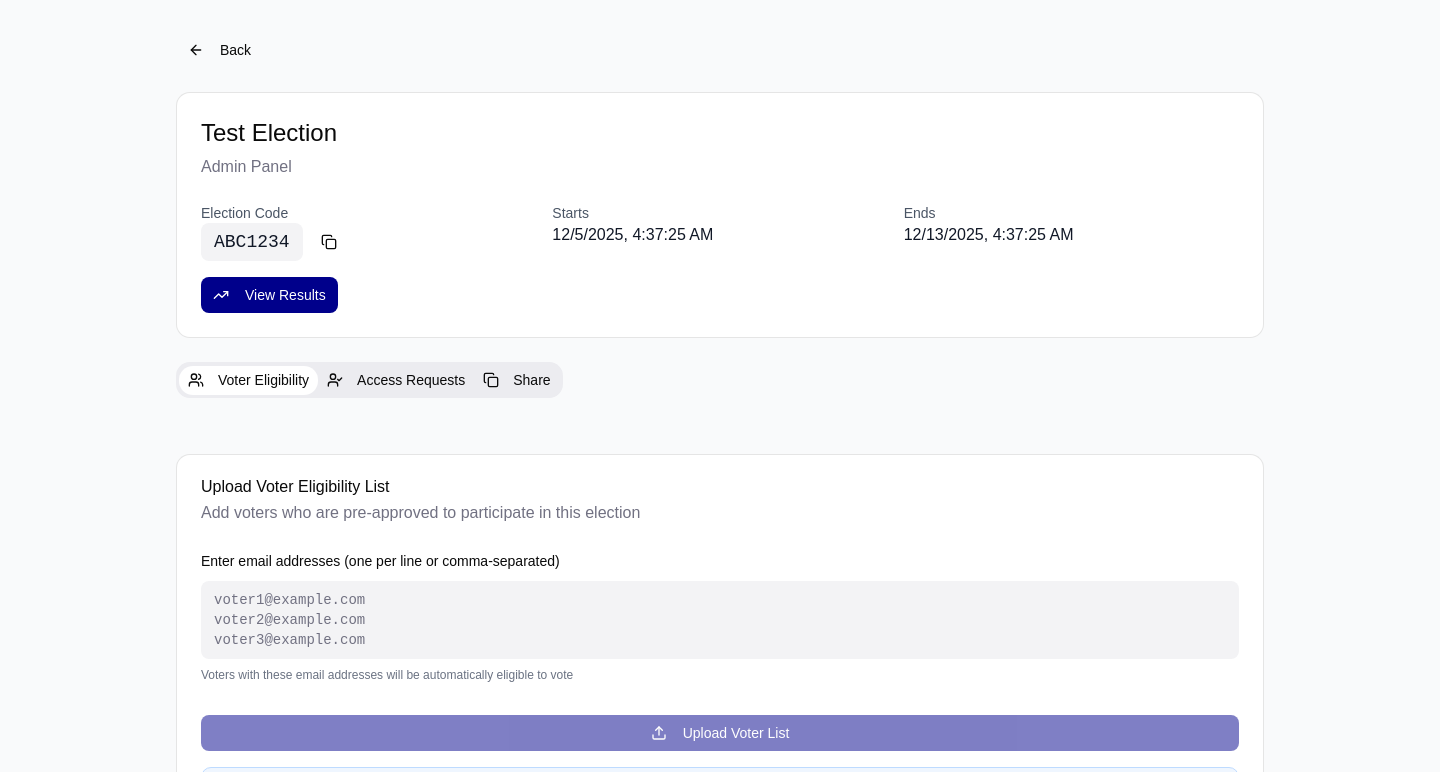
Test: AdminPanel - handleUploadVoters › API error handling › should catch and display API errors
The width and height of the screenshot is (1440, 772).
Expected: the heading "Test Election" is shown, [201,119,337,146]
Type "valid@example.com" into the text box with placeholder "voter1@example.com voter2@example.com voter3@example.com" at (720, 620), box [201,581,1239,659]
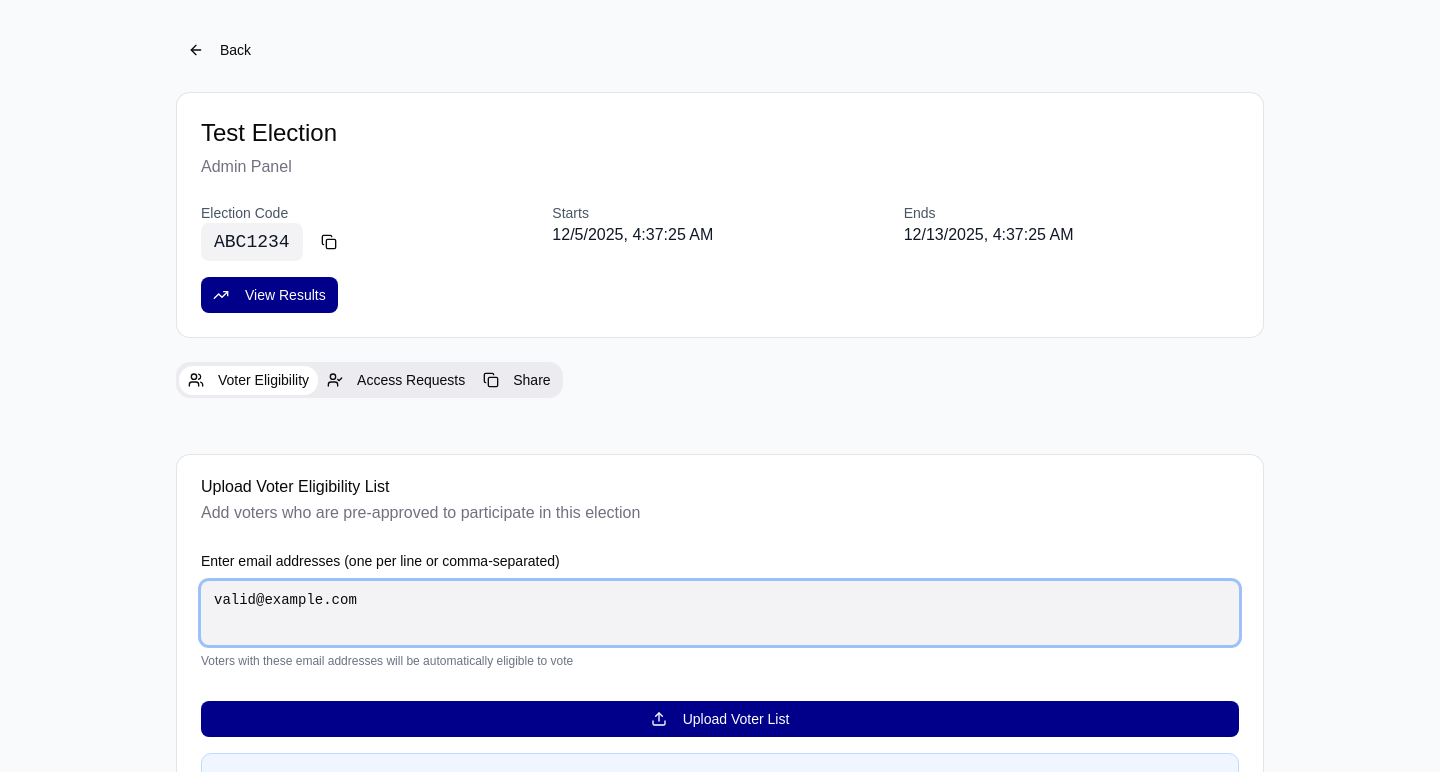
Click the button "Upload Voter List" at (720, 719), box [201,701,1239,737]
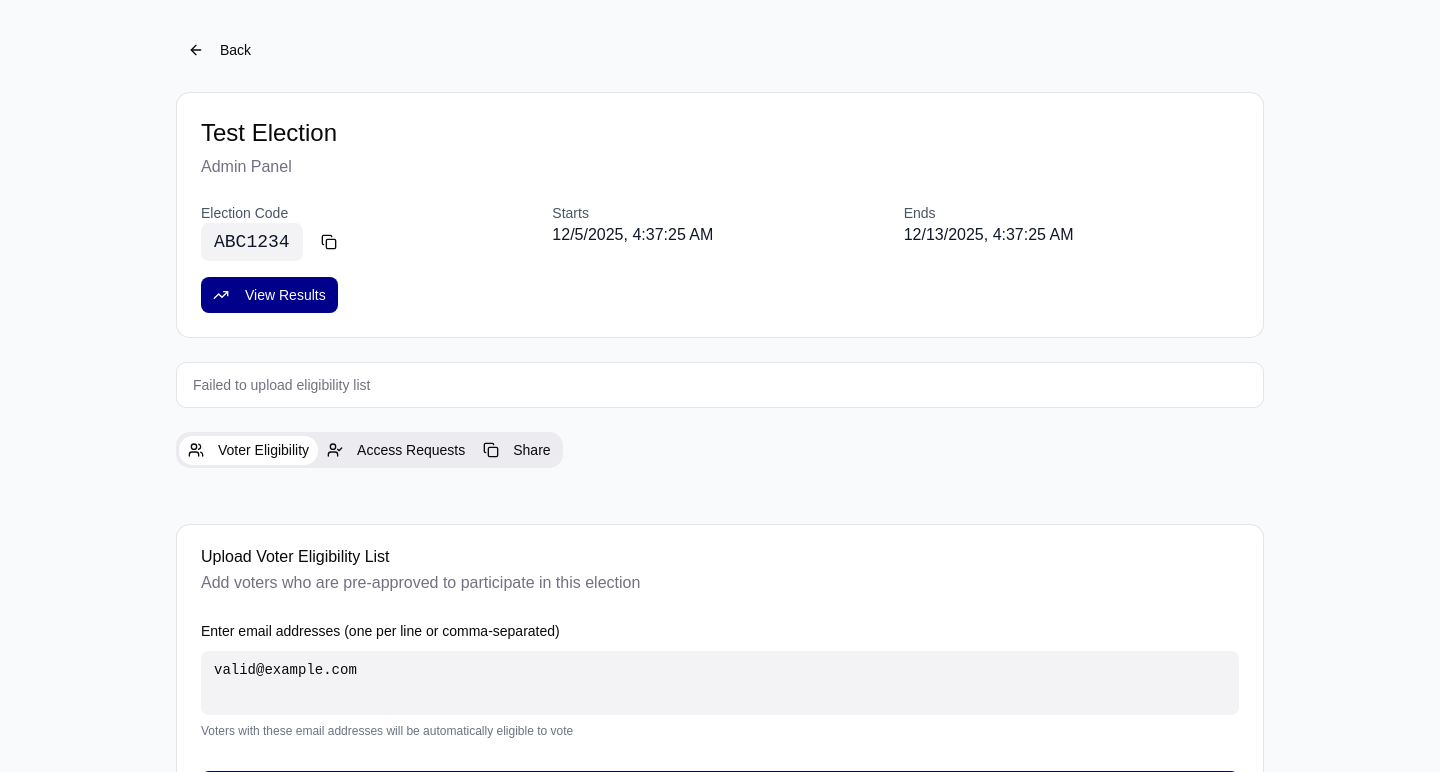
Now the text "Failed to upload eligibility list" is shown, box [193,377,370,393]
